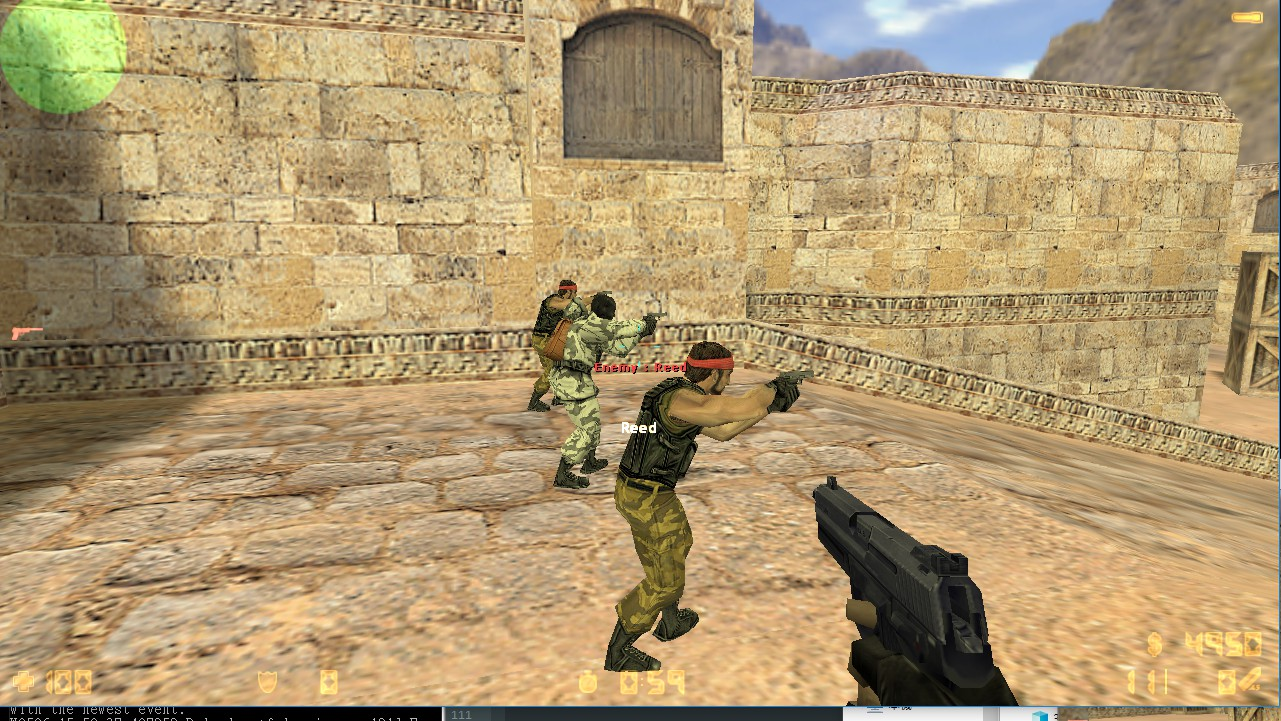person: (615, 338, 702, 662), (563, 296, 619, 482), (533, 268, 571, 409)
